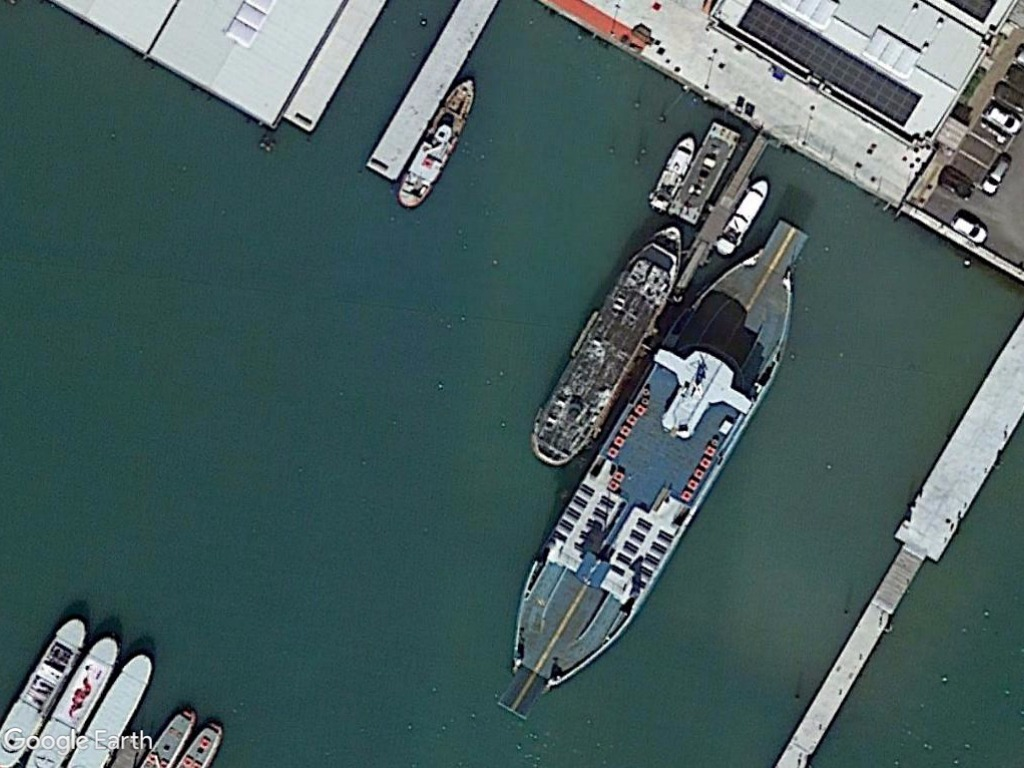boat: (494, 230, 811, 725), (528, 225, 688, 468), (393, 74, 483, 210), (711, 176, 773, 260), (644, 130, 699, 216)
car: (976, 153, 1015, 196), (980, 100, 1024, 138), (947, 208, 989, 247)
